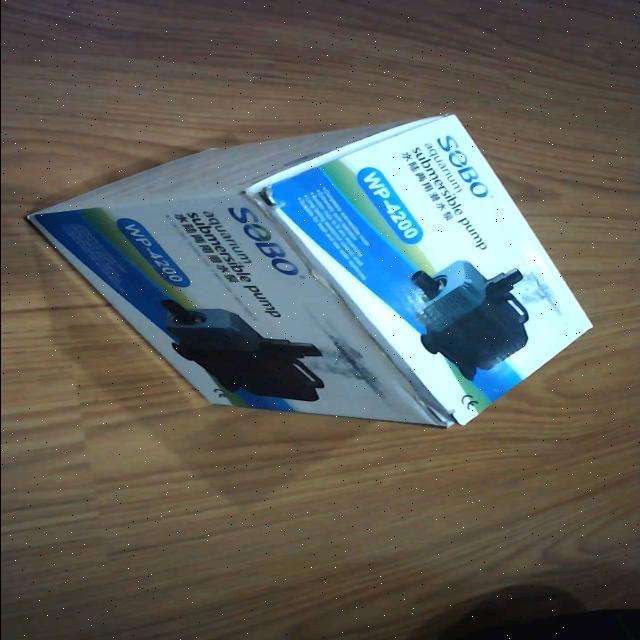SOBO_WP_4200: (17, 114, 602, 427)
